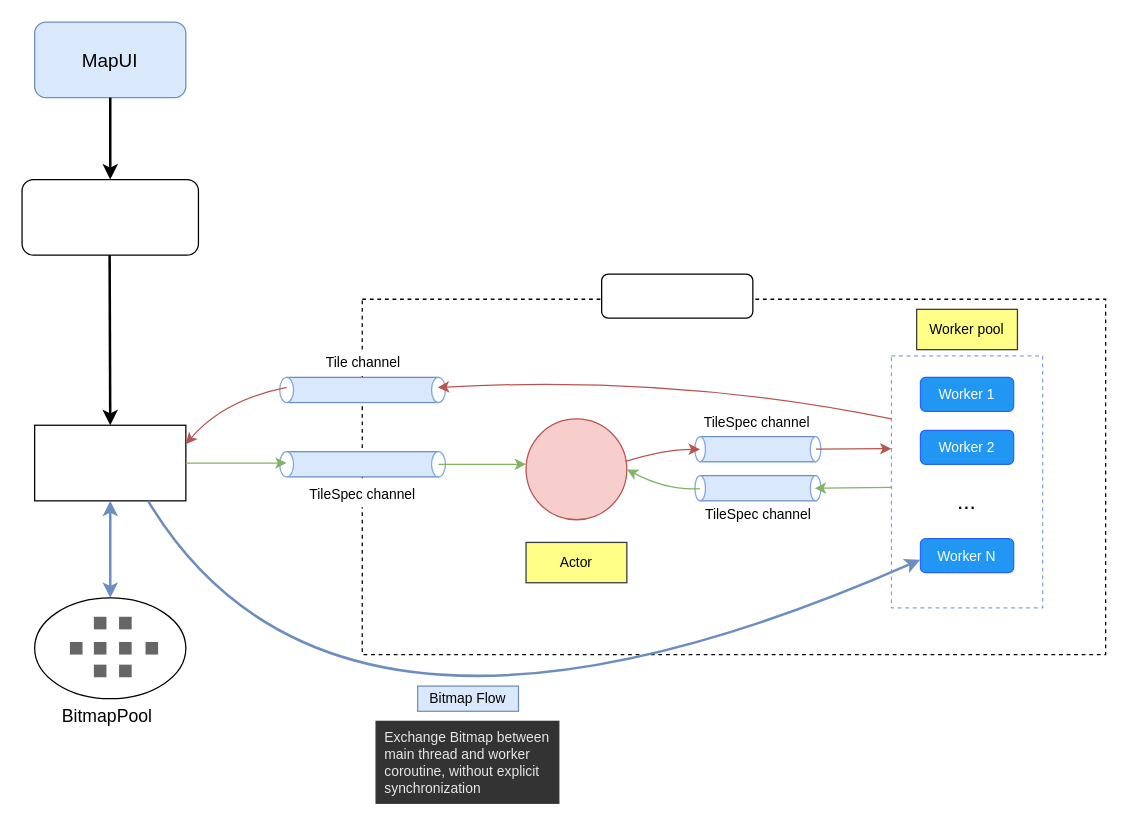
This 1128x825 diagram has some shape labels left out. Each missing label, with the box of its shape:
Collector kernel: (525, 418, 627, 520)
MapState: (21, 178, 198, 255)
TileCanvasState: (33, 424, 186, 501)
TileCollector: (600, 273, 753, 318)
